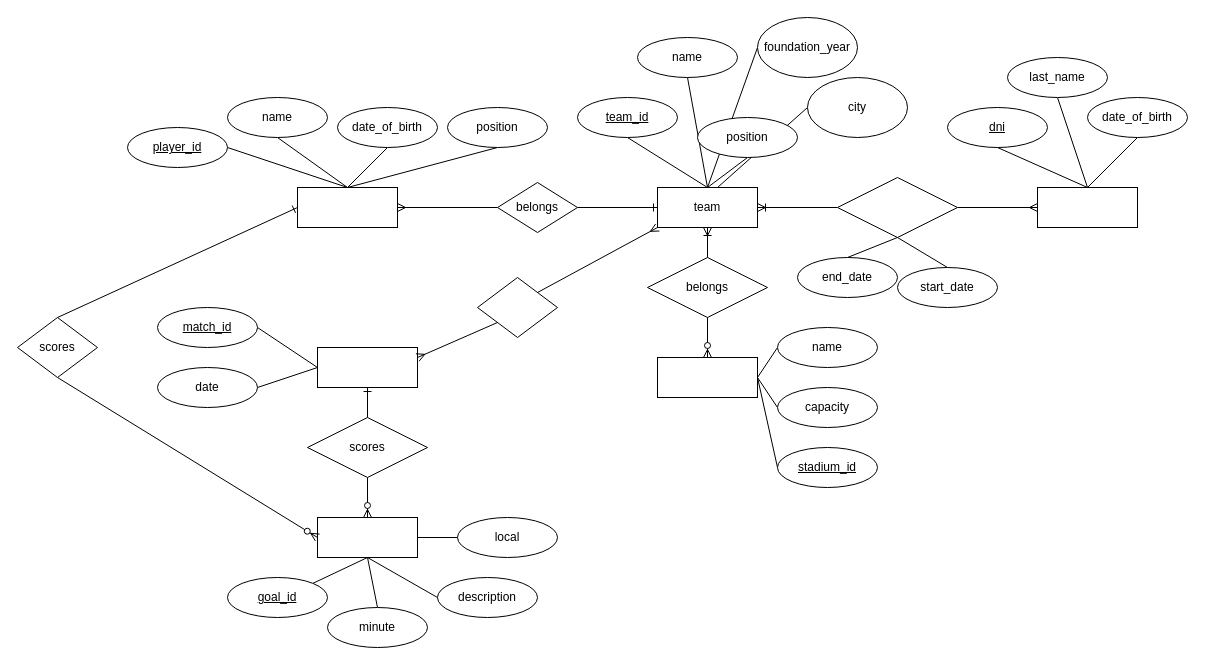
Image size: 1205x665. Some labels were removed from this diagram. The shapes that lost their labels are listed below. From the top down, each one's centre as x and y in pixels, then its label:
the point at 347,207: player
the point at 897,207: leads
the point at 1087,207: president
the point at 517,307: plays
the point at 367,367: match
the point at 707,377: stadium
the point at 367,537: goal
